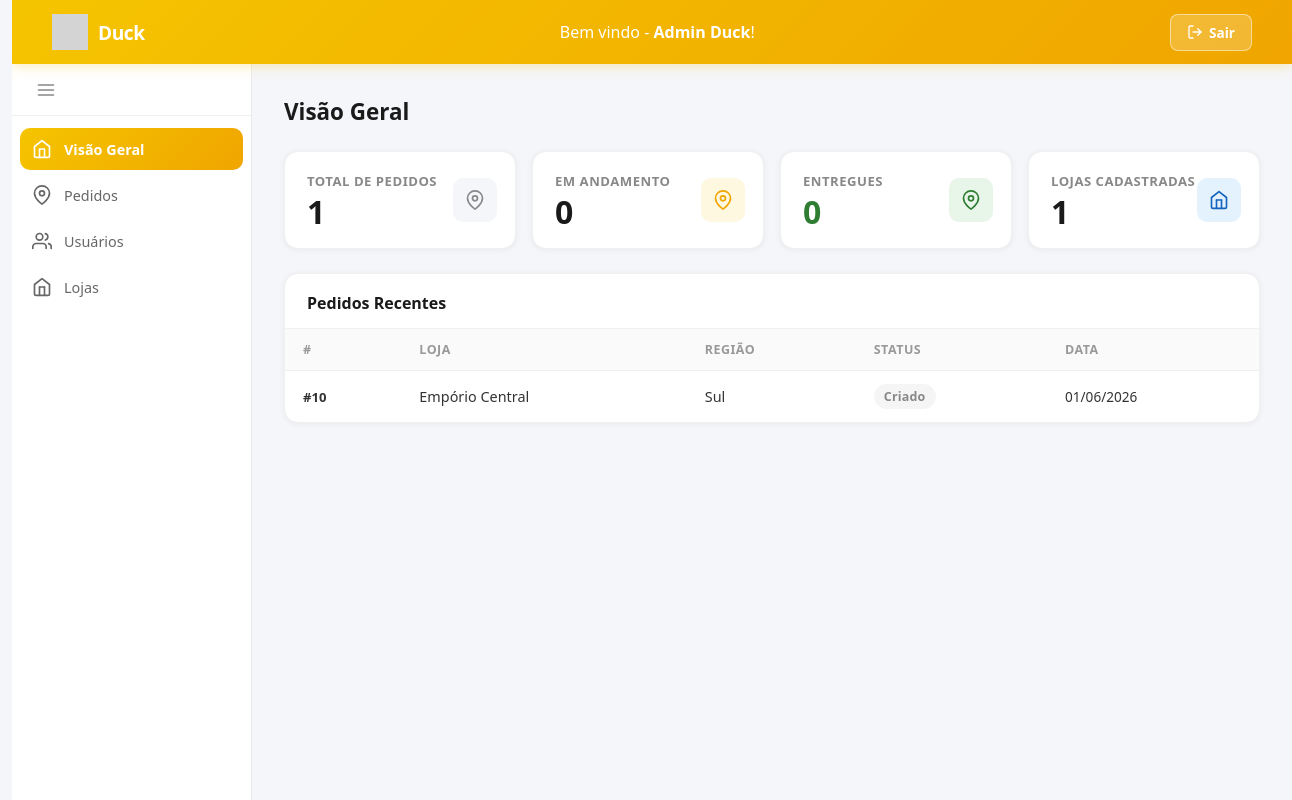
Scenario: Dashboard (admin) › permite ao operador visualizar usuarios sem acoes de gerenciamento
The width and height of the screenshot is (1292, 800).
Check: the heading "Pedidos Recentes" is shown, box [285,274,1259,329]
Click the button "Usuários": (132, 241) [20,220,243,262]
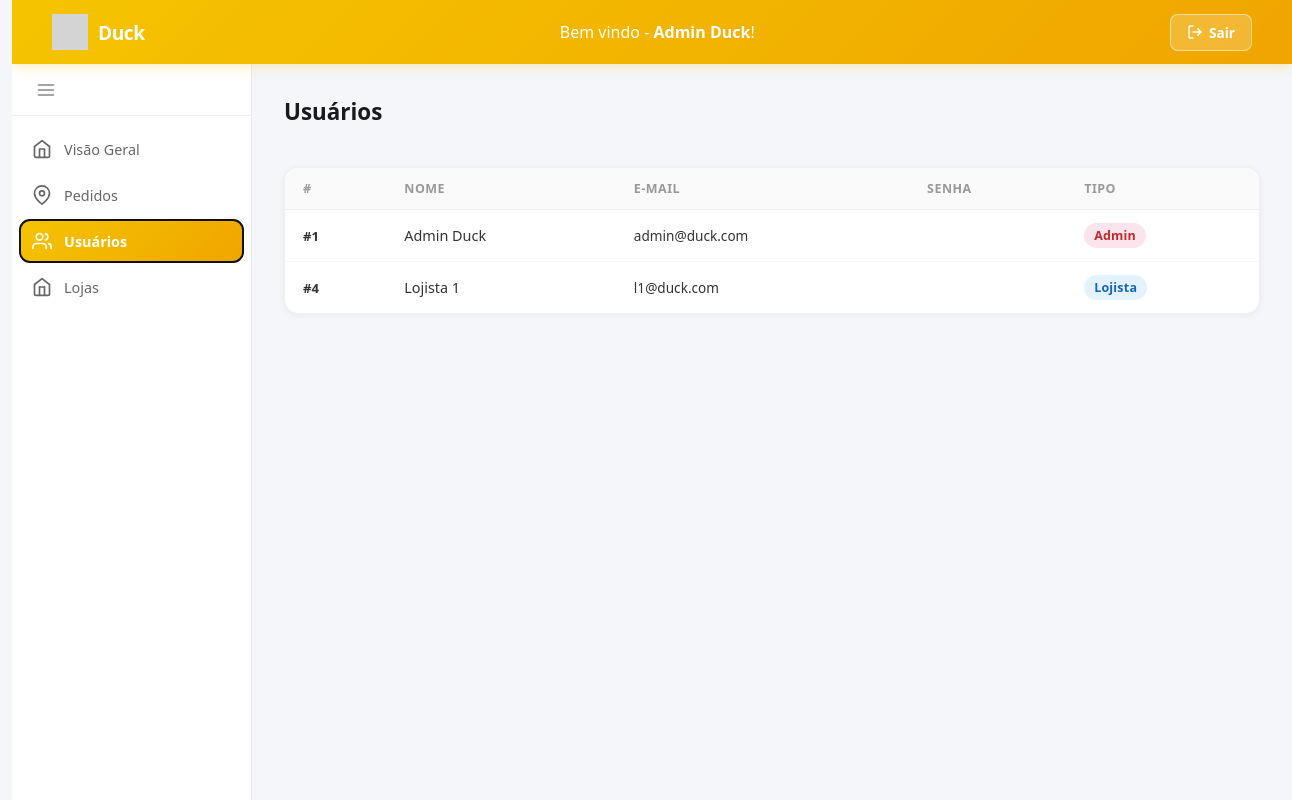
Check: the text "Admin Duck" is shown, box [654,21,750,43]
Check: the text "Lojista 1" is shown, box [386,262,616,313]
